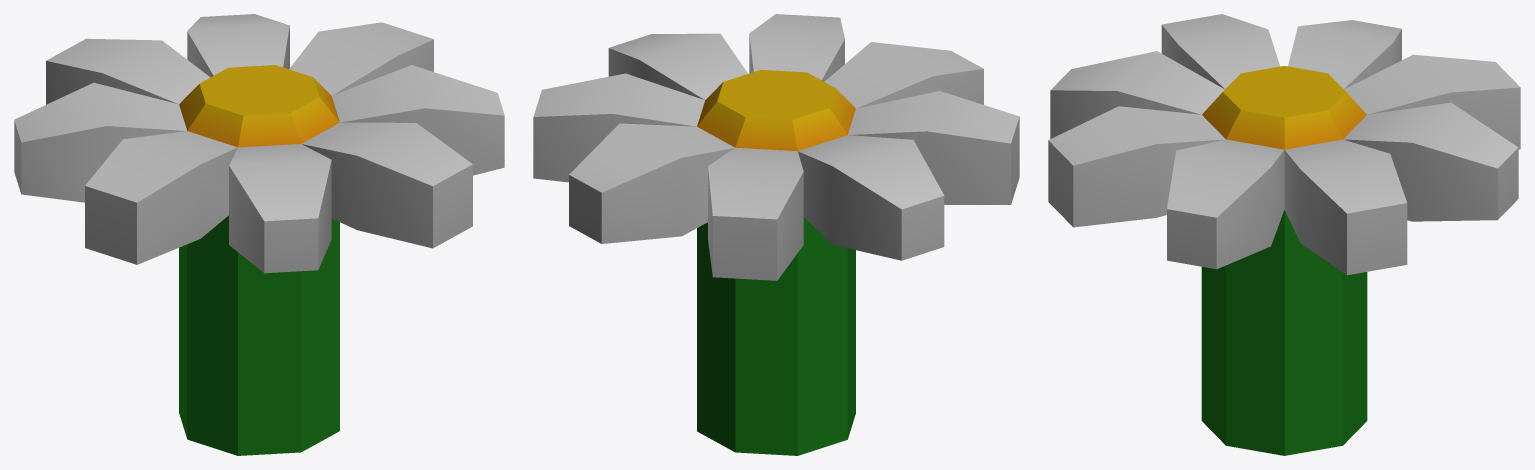
File: flower.fbx
The picture shows the model from 3 angles, left to right: view 1: azimuth 30°, elevation 25°; view 2: azimuth 150°, elevation 25°; view 3: azimuth 270°, elevation 25°; orthographic projection.
Parts seen in each view (by area): view 1: flower; view 2: flower; view 3: flower.
Part boxes in pixels (box(x1,y1,x2,y2)): flower: box(14, 14, 504, 455); flower: box(533, 14, 1019, 455); flower: box(1048, 14, 1520, 455).
Size of the model in its own units: 112 by 85.74 by 112.
